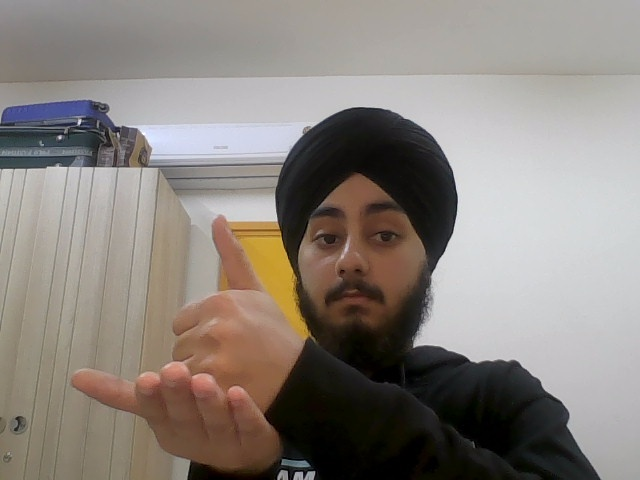Help: (71, 211, 300, 470)
